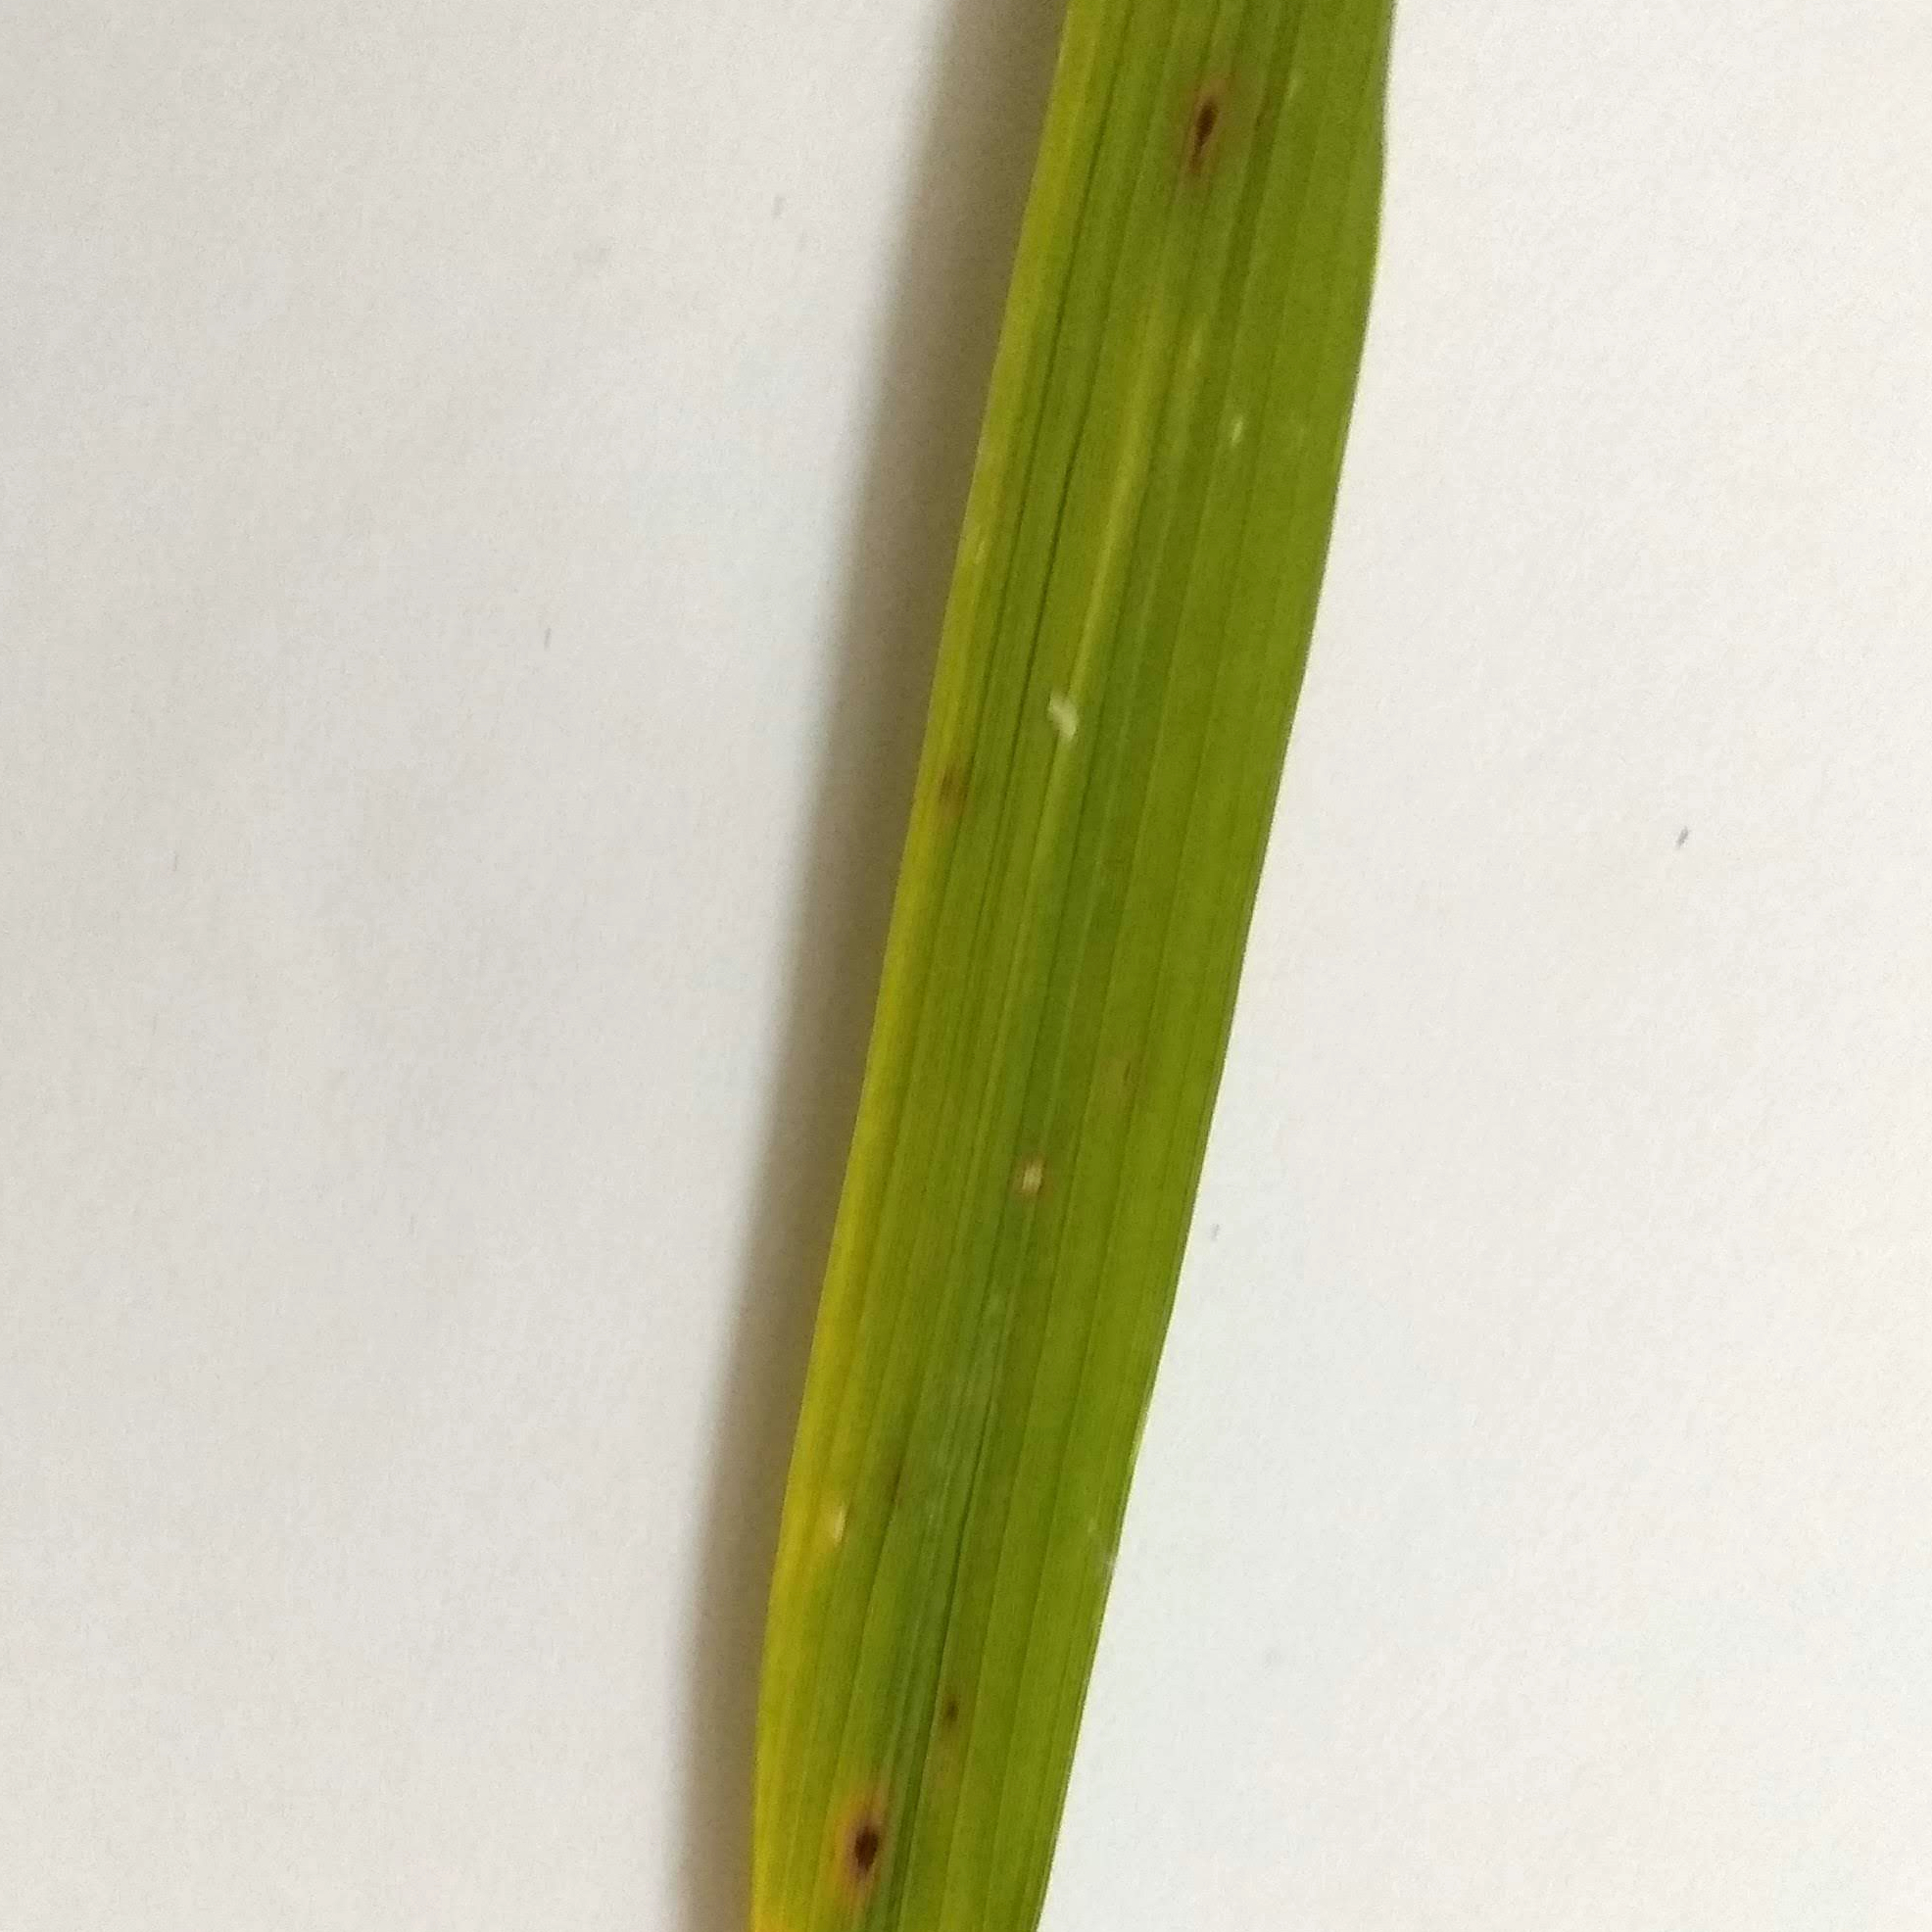brown spot: (1171, 74, 1253, 191), (835, 1806, 895, 1893), (931, 763, 985, 816), (936, 1690, 970, 1734)
